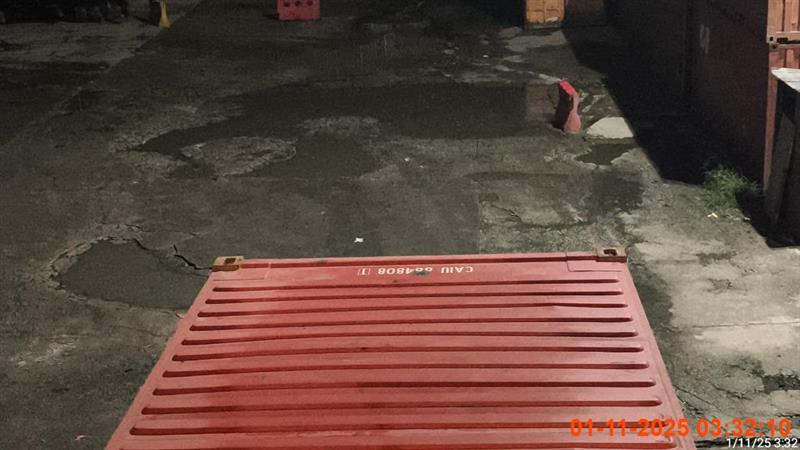broken: (106, 248, 694, 443)
